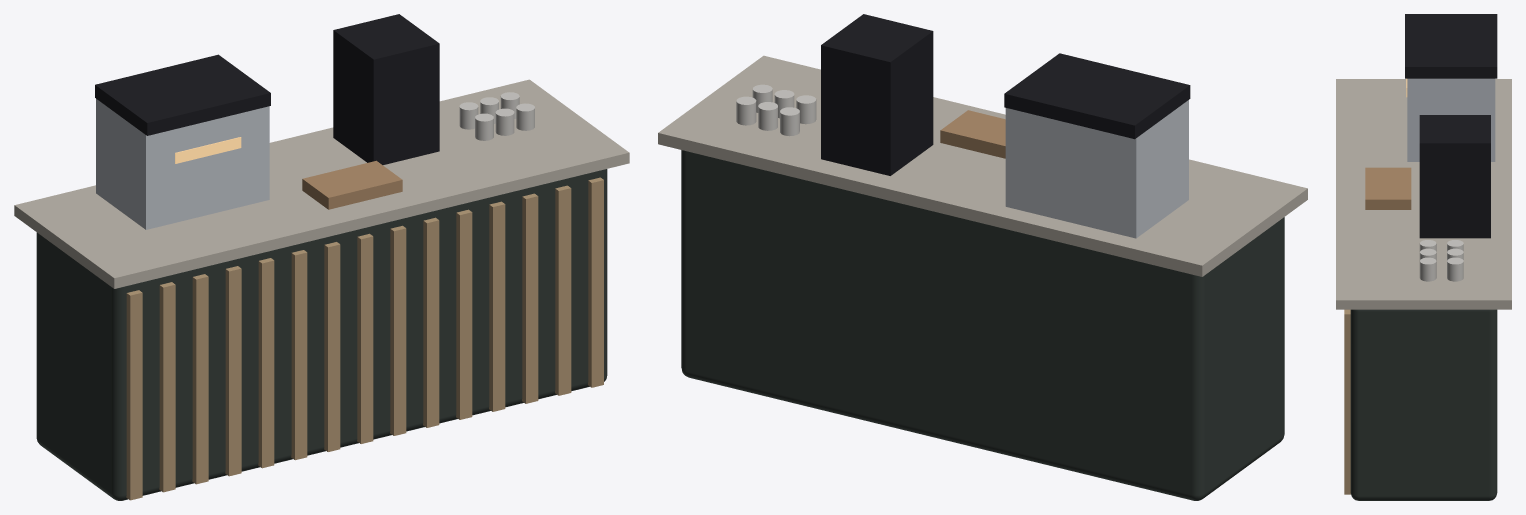
File: balcao-cafe.glb
3 views of the same model, side by side, from view 1: azimuth 30°, elevation 25°; view 2: azimuth 150°, elevation 25°; view 3: azimuth 270°, elevation 25° (orthographic). The views are drawn at different scales.
Visible parts, largest first — view 1: balcao-cafe_malha; view 2: balcao-cafe_malha; view 3: balcao-cafe_malha.
Boxes of the visible parts, x1,y1,x2,y2 form: balcao-cafe_malha: (14,14,629,500); balcao-cafe_malha: (658,14,1307,500); balcao-cafe_malha: (1336,14,1511,500).
Size of the model in its own units: 2.5 by 1.6 by 0.84.
